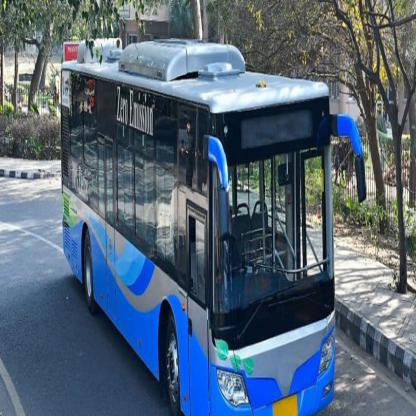bus: (46, 61, 275, 415)
